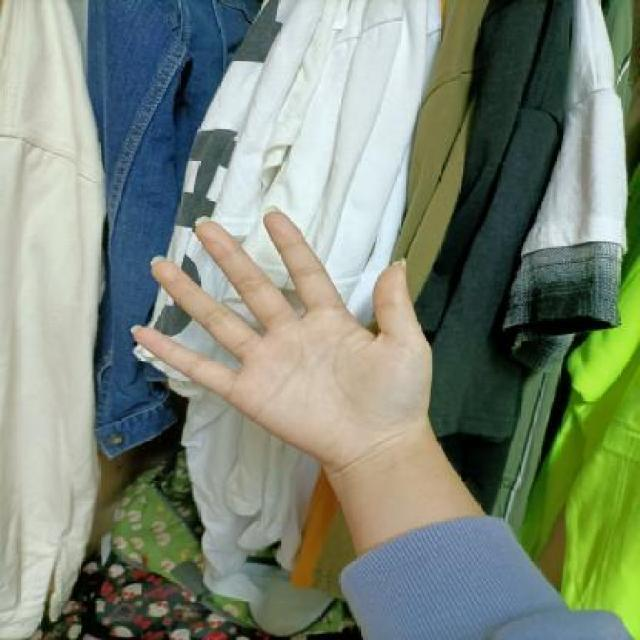Hand: (125, 209, 440, 479)
